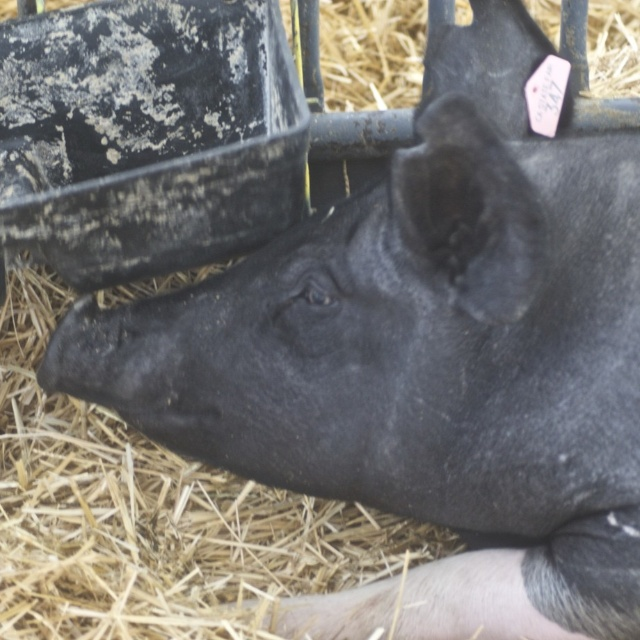Pig: (35, 0, 639, 640)
